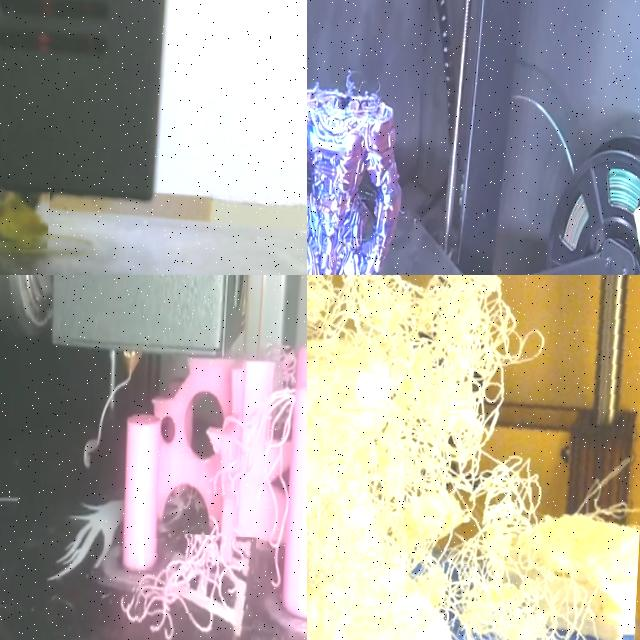spaghetti: (307, 275, 639, 640), (126, 531, 256, 640), (0, 192, 48, 251)
